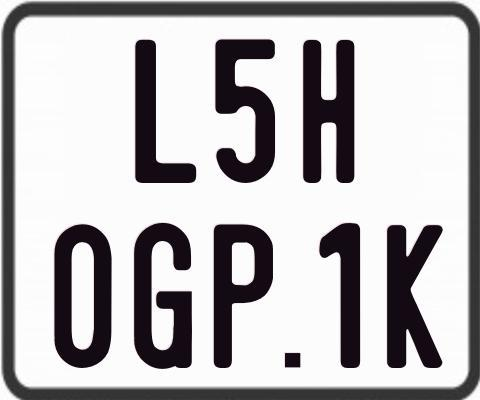0: (54, 224, 112, 368)
1: (316, 222, 363, 370)
5: (212, 39, 273, 189)
G: (133, 221, 197, 368)
H: (301, 37, 355, 182)
K: (385, 225, 446, 373)
L: (133, 38, 199, 181)
P: (212, 221, 275, 365)
